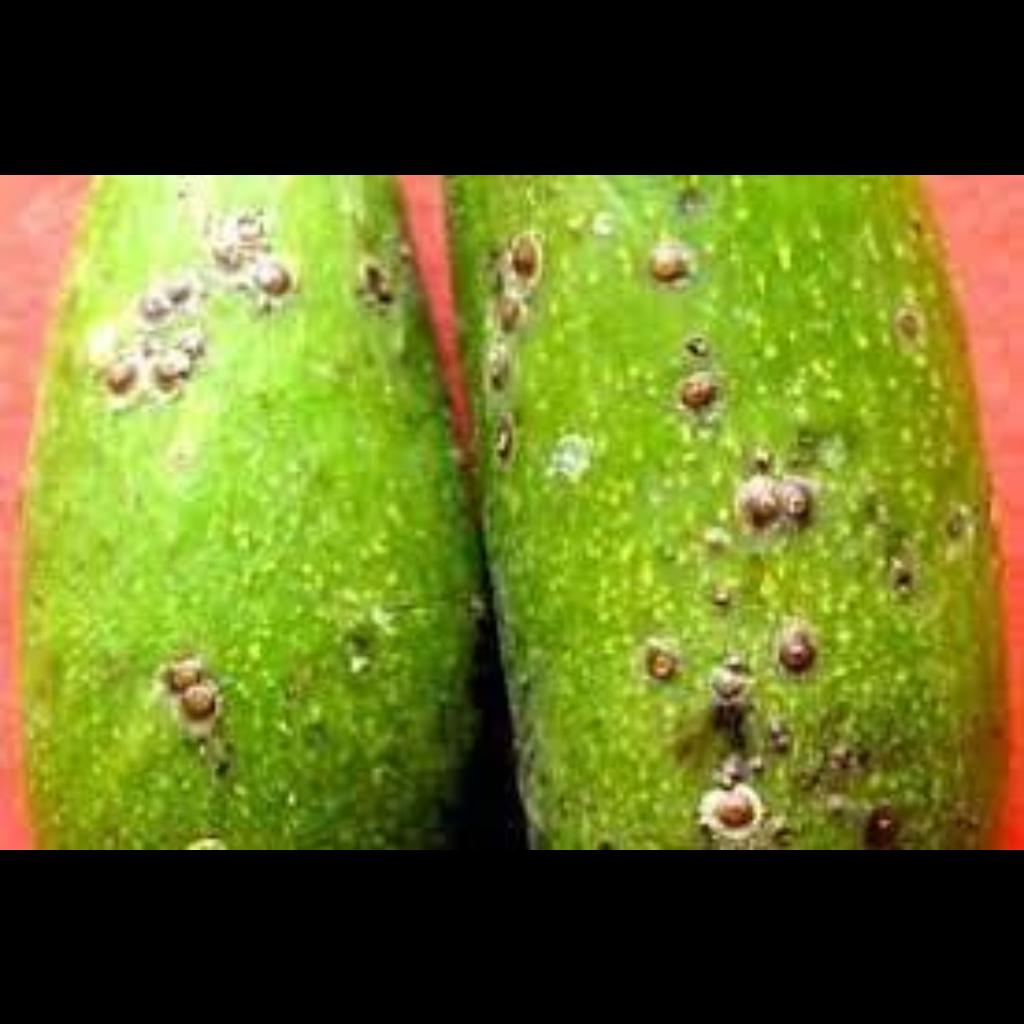cercospora: (111, 247, 441, 752)
